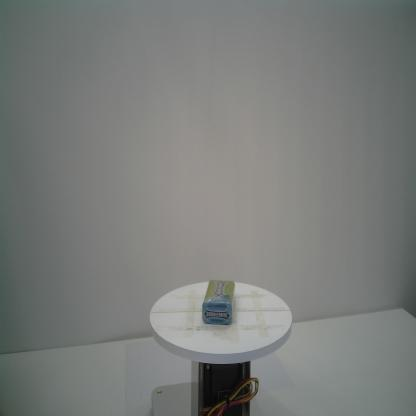Gum: (201, 279, 235, 325)
